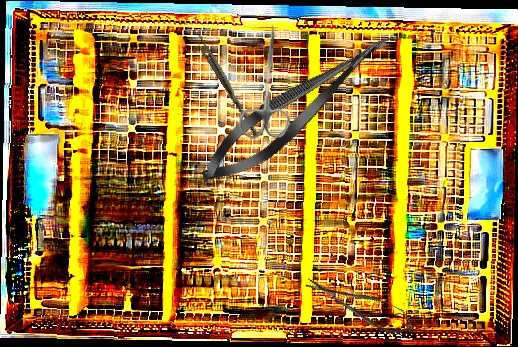Iris Scissors: (237, 21, 297, 142)
Micro Scissor: (188, 17, 407, 198), (302, 266, 419, 343)
Tissue Forceps: (191, 33, 264, 140)
